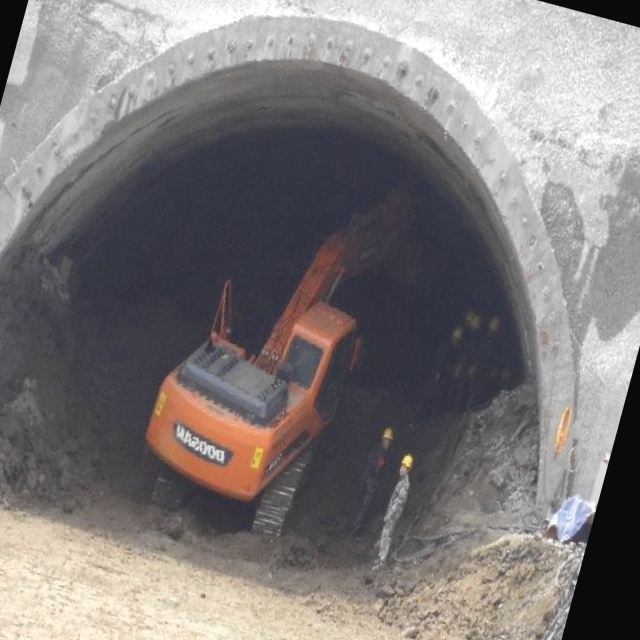Con_Casco: (396, 451, 415, 480), (378, 424, 395, 452)
